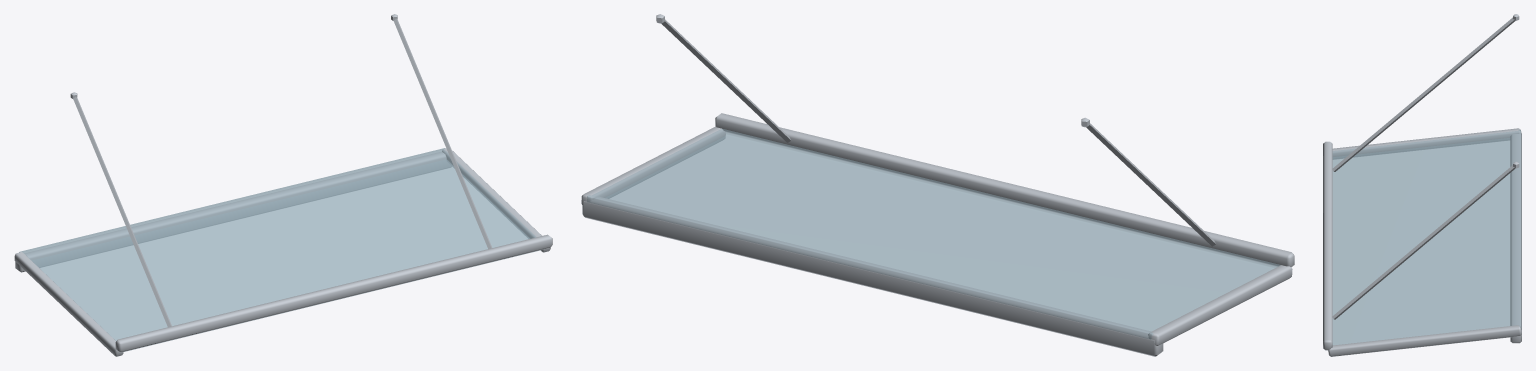
The model's file is door_canopy.glb.
3 views of the same model, side by side, from view 1: azimuth 30°, elevation 25°; view 2: azimuth 150°, elevation 25°; view 3: azimuth 270°, elevation 25° (orthographic). The views are drawn at different scales.
Visible parts, largest first — view 1: door_canopy; view 2: door_canopy; view 3: door_canopy.
Boxes of the visible parts, <box> form: door_canopy: <box>14,14,552,356</box>; door_canopy: <box>581,14,1294,356</box>; door_canopy: <box>1323,14,1521,356</box>.
Size of the model in its own units: 2.45 by 0.9635 by 1.02.
